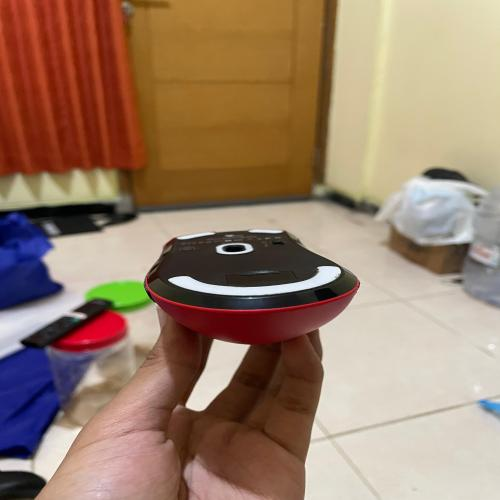mouse: (129, 220, 391, 354)
